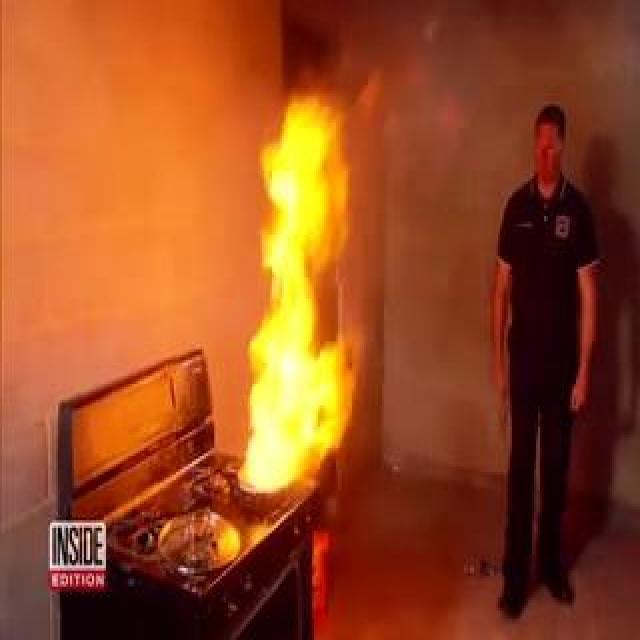Fire: (249, 101, 358, 488)
